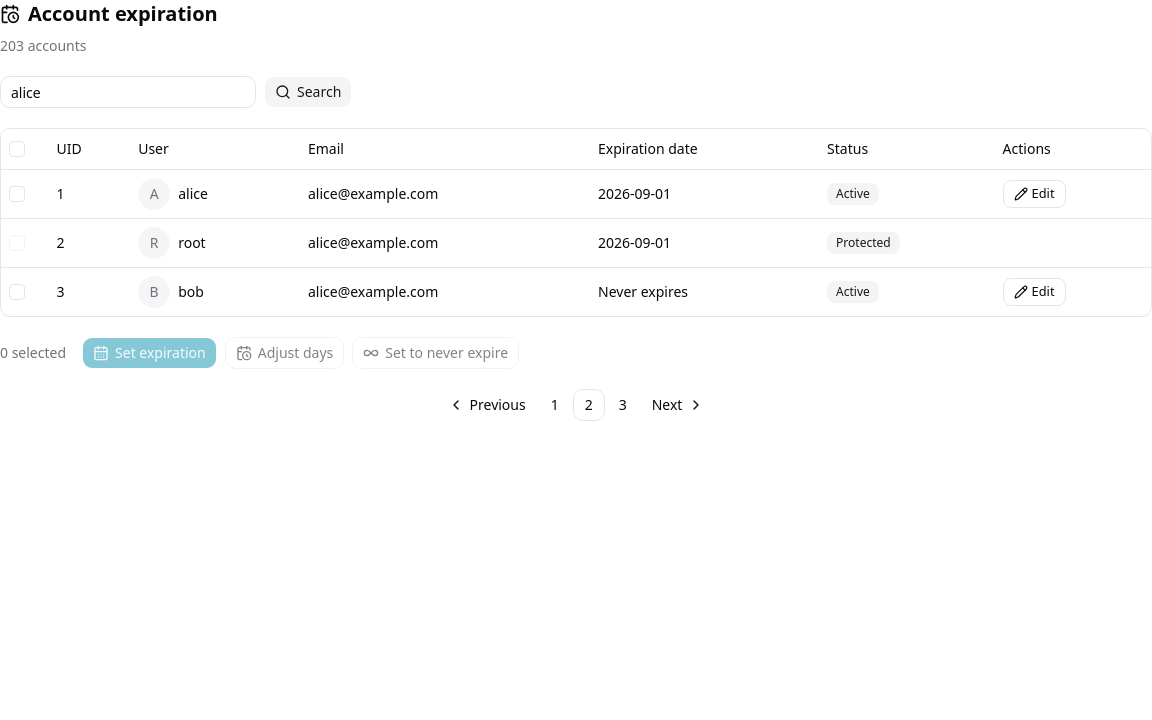
Test: ExpirationPage › rejects invalid days 1.5
Click the checkbox named "Select alice" at (17, 194), box top-left (9, 186), bottom-right (25, 202)
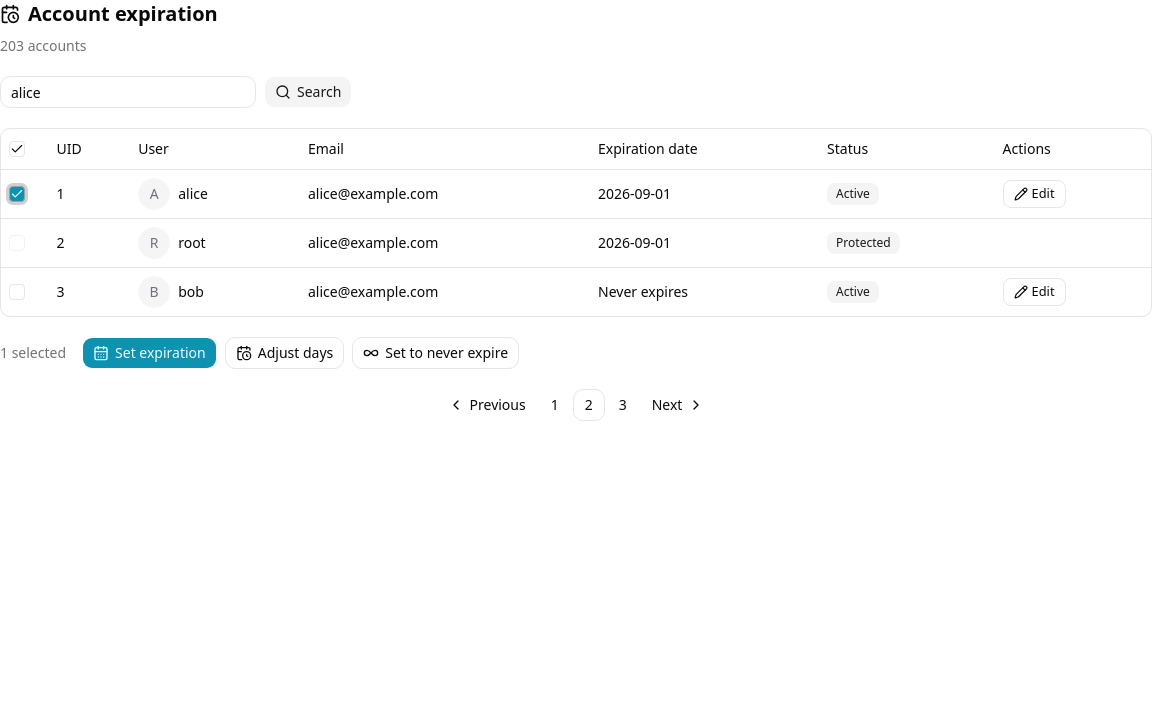
Click the button "Adjust days" at (284, 352), box top-left (225, 336), bottom-right (344, 368)
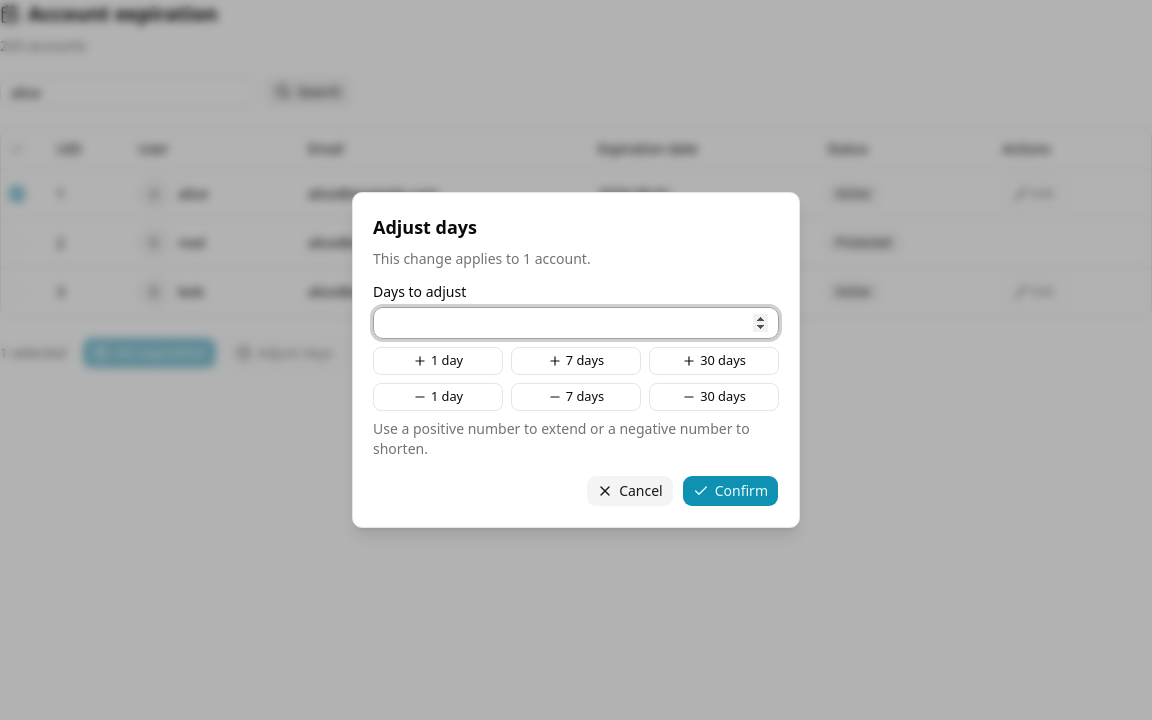
Type "1.5" into the number field labelled "Days to adjust" at (576, 323), box top-left (373, 307), bottom-right (779, 339)
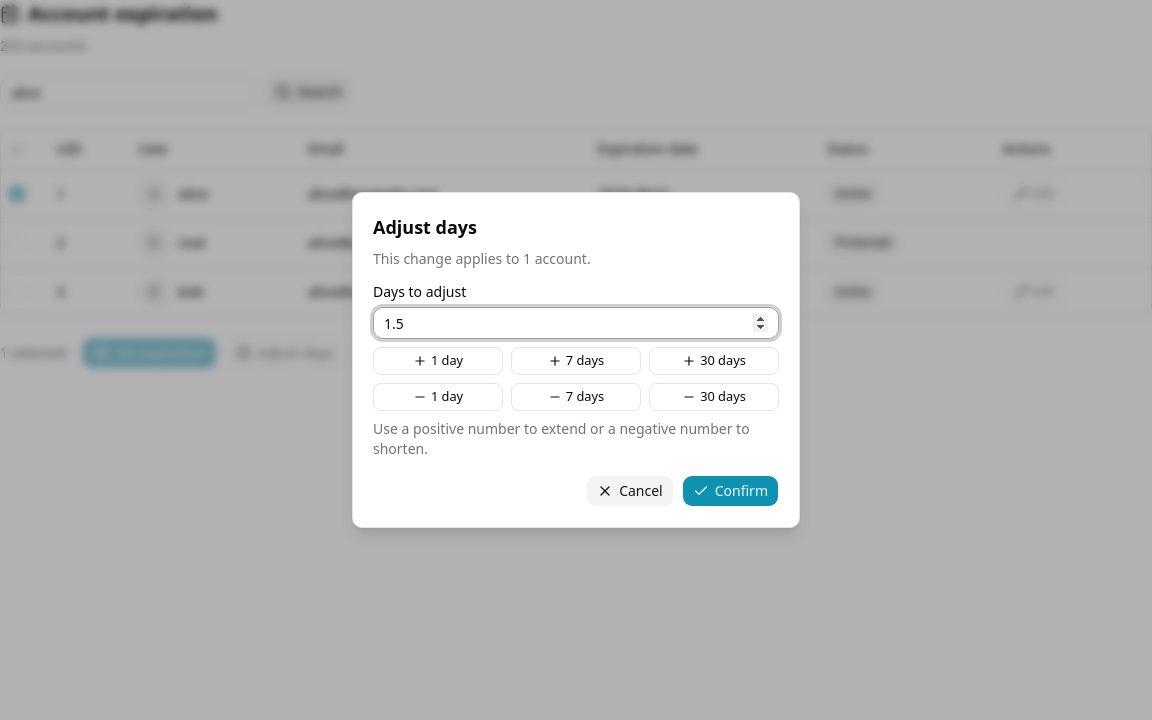
Click the button "Confirm" at (730, 491), box top-left (682, 475), bottom-right (779, 507)
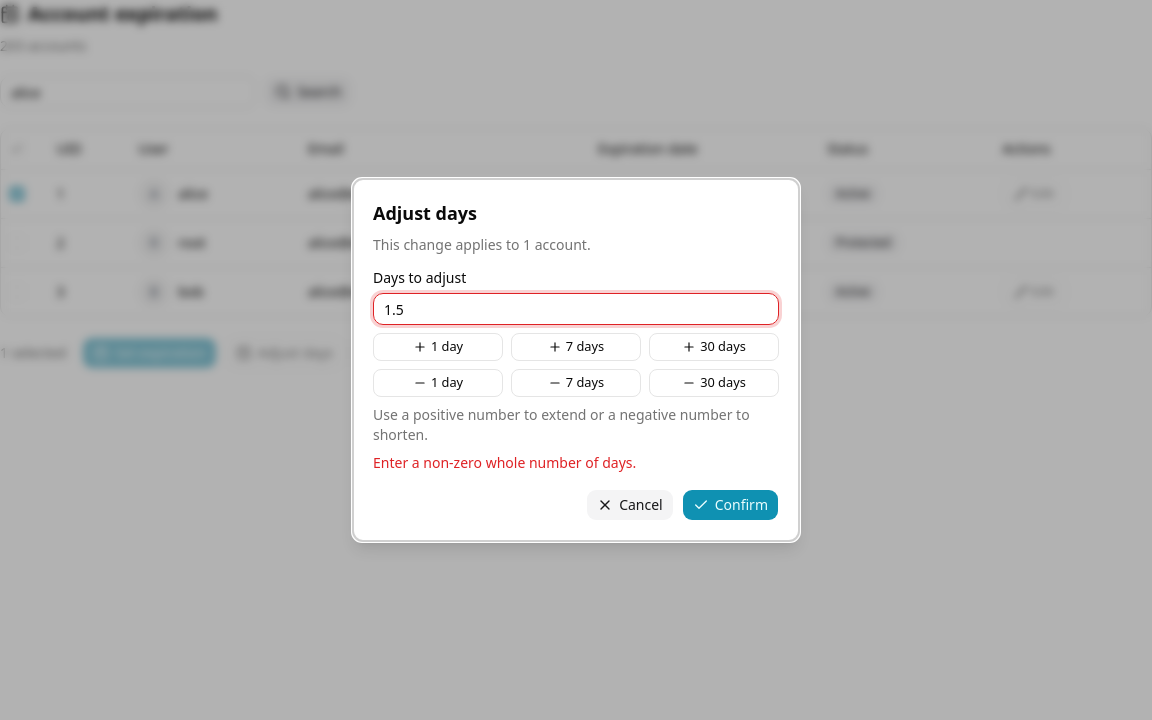
Expected: the message shows "non-zero whole number", top-left (373, 453), bottom-right (636, 472)
